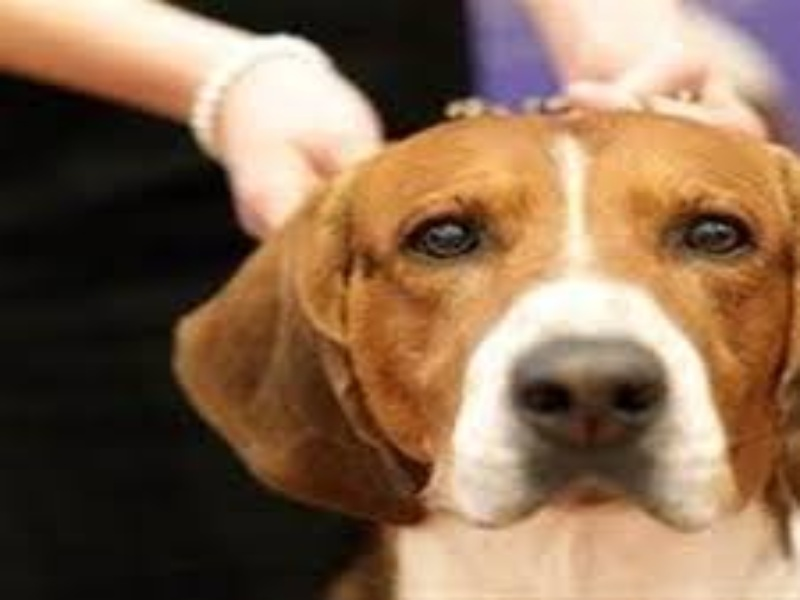dog: (162, 100, 800, 599)
